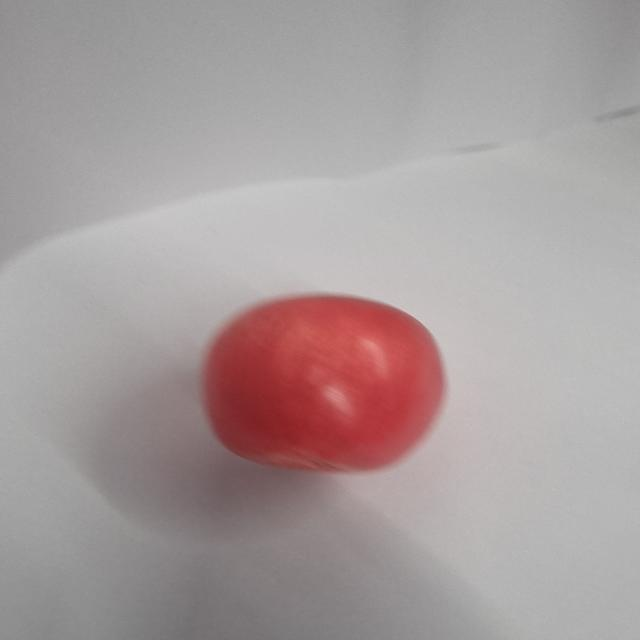apple: (202, 294, 447, 472)
